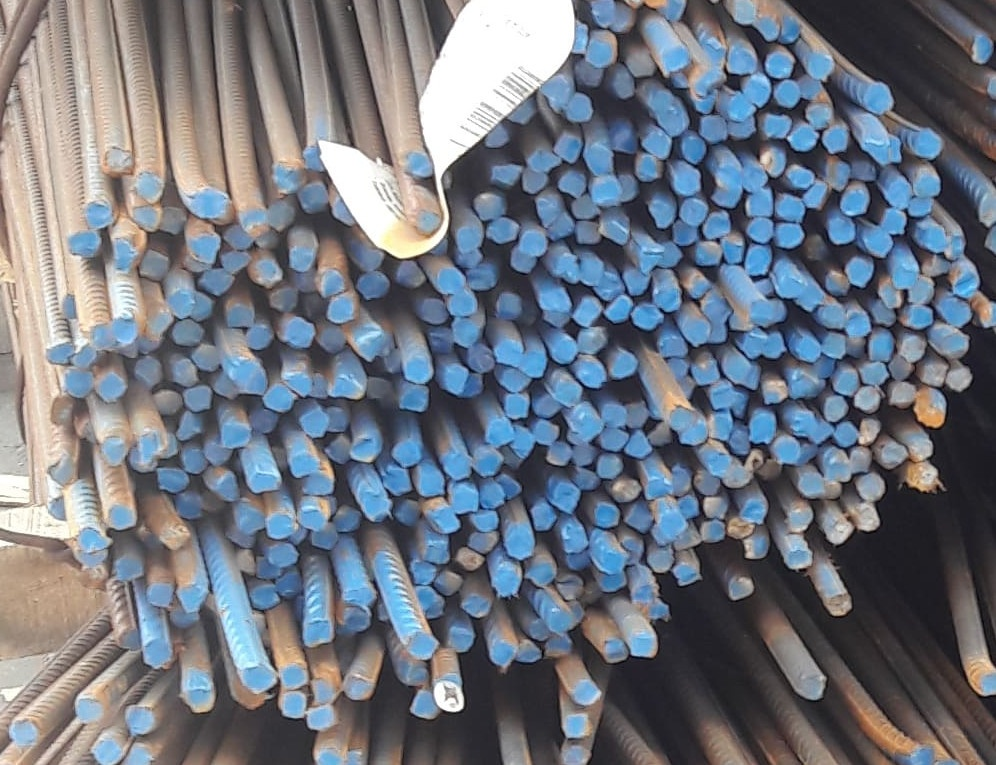dipstick: (233, 357, 268, 394), (915, 390, 948, 429), (931, 327, 969, 359), (189, 188, 228, 219), (242, 661, 278, 694), (348, 238, 383, 271), (101, 144, 133, 179), (415, 586, 447, 620), (569, 407, 601, 441), (658, 100, 688, 136), (542, 75, 572, 110), (197, 269, 234, 296), (283, 317, 315, 348), (939, 297, 971, 328), (328, 375, 365, 401), (124, 704, 155, 735), (300, 184, 330, 216), (352, 329, 382, 361), (356, 270, 390, 298), (586, 143, 614, 177), (275, 162, 305, 193), (472, 448, 503, 478), (601, 214, 631, 245), (907, 462, 938, 492), (75, 526, 112, 551), (427, 506, 460, 534), (695, 68, 728, 96), (131, 203, 161, 233), (240, 205, 269, 236), (341, 673, 370, 704), (409, 690, 440, 719), (865, 82, 894, 113), (364, 490, 392, 522), (394, 260, 426, 288), (765, 52, 797, 80), (742, 74, 770, 106), (67, 229, 100, 256), (250, 260, 284, 286), (190, 234, 220, 263), (97, 372, 126, 402), (491, 567, 521, 596), (592, 178, 621, 208), (642, 130, 672, 159), (728, 46, 757, 76), (176, 411, 204, 442), (553, 483, 581, 514), (673, 166, 701, 197), (574, 295, 602, 326), (792, 332, 820, 363), (338, 602, 370, 629), (406, 631, 438, 658), (48, 453, 74, 486), (620, 532, 645, 566), (135, 173, 164, 202), (84, 200, 113, 229), (864, 229, 893, 258), (134, 356, 162, 386), (587, 38, 615, 68), (577, 327, 607, 355), (167, 287, 194, 318), (266, 513, 297, 540), (302, 619, 333, 646), (419, 466, 446, 497), (632, 304, 663, 331), (726, 95, 757, 122), (157, 468, 189, 494), (885, 177, 911, 209), (901, 305, 934, 330), (969, 32, 994, 65), (63, 369, 92, 397), (139, 429, 167, 458), (160, 521, 189, 549), (300, 409, 328, 438), (400, 385, 429, 413), (448, 290, 477, 318), (443, 451, 471, 480), (598, 546, 627, 574), (604, 295, 632, 324), (919, 224, 947, 253), (788, 370, 816, 399), (825, 516, 853, 545), (266, 202, 296, 229), (75, 697, 105, 724), (318, 324, 345, 354), (701, 115, 728, 145), (856, 474, 886, 501), (105, 503, 136, 529), (183, 687, 214, 713), (524, 560, 555, 586), (576, 59, 602, 90), (173, 320, 205, 345), (487, 218, 519, 243), (650, 197, 674, 230), (561, 524, 589, 552), (659, 509, 687, 537), (913, 129, 941, 157), (953, 269, 981, 297), (880, 444, 908, 472), (404, 151, 433, 178), (383, 468, 412, 495), (449, 487, 478, 514), (624, 504, 653, 531), (712, 182, 741, 209), (653, 285, 682, 312), (846, 258, 873, 287), (749, 414, 776, 443), (140, 249, 166, 279), (86, 321, 116, 347), (855, 502, 881, 532), (91, 740, 123, 764), (326, 294, 354, 321), (178, 585, 206, 612), (144, 640, 171, 668), (333, 505, 361, 532), (405, 356, 433, 383), (596, 273, 624, 300), (412, 210, 441, 236), (102, 436, 128, 465), (10, 719, 39, 745), (399, 660, 428, 686), (611, 350, 637, 379), (703, 297, 732, 323), (475, 194, 505, 219), (825, 452, 850, 482), (541, 288, 572, 312), (581, 254, 604, 286), (226, 224, 253, 251), (289, 246, 316, 273), (265, 385, 292, 412), (173, 358, 199, 386), (250, 406, 278, 432), (392, 440, 420, 466), (437, 267, 465, 293), (452, 318, 478, 346), (468, 345, 494, 373), (436, 571, 464, 597), (565, 96, 593, 122), (612, 126, 638, 154), (624, 268, 650, 296), (777, 196, 805, 222), (893, 262, 919, 290), (947, 365, 973, 393), (670, 403, 696, 431), (798, 673, 826, 699), (311, 676, 336, 705), (251, 585, 280, 610), (578, 363, 607, 388), (661, 45, 690, 70), (555, 253, 580, 282), (684, 317, 709, 346), (900, 334, 925, 363), (528, 148, 558, 172), (500, 369, 530, 393), (870, 331, 894, 361), (161, 208, 187, 235), (115, 555, 142, 581), (146, 582, 173, 608), (281, 664, 308, 690), (311, 524, 337, 551), (456, 226, 483, 252), (488, 419, 514, 446), (630, 632, 657, 658), (680, 199, 707, 225), (746, 191, 773, 217), (155, 390, 183, 415), (420, 299, 448, 324), (495, 341, 523, 366), (496, 293, 521, 321), (507, 534, 535, 559), (776, 224, 804, 249), (919, 362, 947, 387), (114, 313, 138, 342), (246, 327, 275, 351), (184, 387, 213, 411), (215, 472, 239, 501), (682, 136, 706, 165), (116, 239, 137, 272), (344, 584, 377, 605), (826, 161, 849, 191), (859, 362, 889, 385), (351, 437, 377, 463), (908, 278, 934, 304), (889, 382, 915, 408), (723, 356, 749, 382), (319, 268, 344, 295), (308, 705, 335, 730), (284, 373, 311, 398), (504, 393, 529, 420), (601, 428, 628, 453), (704, 214, 731, 239), (856, 386, 881, 413), (786, 507, 813, 532), (270, 287, 298, 311), (193, 347, 221, 371), (291, 452, 319, 476), (281, 691, 305, 719), (513, 427, 534, 459), (532, 503, 556, 531), (557, 134, 581, 162), (656, 337, 688, 358), (790, 127, 818, 151), (691, 360, 719, 384), (668, 466, 691, 495), (879, 277, 901, 307), (785, 547, 815, 569), (303, 474, 334, 495), (491, 641, 516, 667), (594, 503, 620, 528), (648, 422, 674, 447), (808, 53, 833, 79), (828, 219, 854, 244), (880, 209, 906, 234), (798, 473, 823, 499), (409, 561, 436, 585), (448, 627, 475, 651), (746, 218, 773, 242), (746, 247, 770, 274), (888, 354, 912, 381), (822, 332, 846, 359), (226, 303, 254, 326), (328, 435, 351, 463), (467, 268, 495, 291), (422, 542, 450, 565), (546, 635, 574, 658), (572, 681, 600, 704), (613, 480, 641, 503), (226, 526, 255, 548), (860, 128, 889, 150), (170, 607, 200, 628), (461, 596, 491, 617), (710, 455, 740, 476), (177, 494, 202, 519), (563, 713, 588, 738), (549, 214, 574, 239), (823, 128, 848, 153), (183, 447, 207, 473), (535, 420, 559, 446), (553, 338, 577, 364), (559, 172, 585, 196), (590, 1, 614, 27), (742, 165, 766, 191), (757, 16, 781, 42), (761, 151, 785, 177), (806, 103, 832, 127), (914, 173, 940, 197), (826, 270, 850, 296), (821, 304, 847, 328), (681, 419, 707, 443), (694, 472, 720, 496), (147, 309, 170, 336), (189, 293, 212, 320), (279, 573, 302, 600), (457, 547, 484, 570), (699, 521, 726, 544), (628, 432, 651, 459), (573, 196, 600, 219), (635, 154, 658, 181), (709, 413, 732, 440), (304, 143, 326, 171), (222, 424, 250, 446), (238, 510, 266, 532), (612, 71, 634, 99), (778, 276, 806, 298), (979, 191, 996, 227), (445, 364, 466, 393), (630, 584, 659, 605), (536, 197, 557, 226), (724, 466, 753, 487), (256, 555, 281, 579), (485, 122, 509, 147), (468, 531, 498, 551), (550, 608, 575, 632), (558, 575, 582, 600), (577, 221, 601, 246), (841, 191, 865, 216), (847, 312, 871, 337), (730, 425, 750, 455), (747, 300, 771, 325), (792, 411, 816, 436), (776, 440, 801, 464), (834, 422, 858, 447), (827, 593, 852, 617), (744, 536, 769, 560), (130, 449, 156, 472), (206, 442, 232, 465), (299, 508, 325, 531), (524, 351, 547, 377), (520, 231, 546, 254), (628, 53, 654, 76), (696, 242, 722, 265), (729, 118, 755, 141), (765, 334, 788, 360), (497, 476, 524, 498), (674, 563, 701, 585), (764, 115, 791, 137), (250, 472, 281, 491), (492, 163, 520, 184), (645, 476, 673, 497), (270, 546, 299, 566), (598, 572, 627, 592), (293, 270, 317, 294), (313, 745, 345, 763), (649, 549, 673, 573), (603, 405, 627, 429), (742, 500, 766, 524), (397, 500, 420, 525), (368, 377, 393, 400), (430, 328, 453, 353), (523, 169, 546, 194), (481, 484, 504, 509), (604, 640, 629, 663), (512, 248, 535, 273), (687, 276, 712, 299), (777, 82, 800, 107), (728, 577, 754, 599), (213, 375, 237, 398), (703, 496, 726, 520), (598, 455, 622, 478), (647, 91, 670, 115), (732, 1, 755, 25), (946, 232, 965, 261), (805, 184, 827, 209), (743, 334, 765, 359), (909, 439, 934, 461), (556, 385, 582, 406), (859, 419, 880, 445), (780, 16, 800, 43), (922, 256, 949, 276), (873, 303, 896, 326), (711, 386, 734, 409), (117, 629, 141, 651), (547, 443, 571, 465), (573, 446, 597, 468), (799, 75, 821, 99), (763, 381, 787, 403), (810, 419, 832, 443), (756, 458, 780, 480), (327, 408, 348, 433), (456, 247, 481, 268), (536, 395, 561, 416), (641, 246, 662, 271), (716, 163, 741, 184), (836, 370, 857, 395), (851, 447, 872, 472), (615, 4, 633, 33), (47, 344, 73, 364), (517, 642, 543, 662), (722, 238, 742, 264), (850, 163, 876, 183), (668, 356, 688, 382), (75, 550, 107, 566), (528, 618, 550, 641), (674, 222, 697, 244), (708, 322, 730, 345), (826, 397, 848, 420), (222, 251, 250, 269), (574, 469, 599, 489), (621, 175, 639, 202), (566, 553, 591, 572), (472, 512, 498, 530), (544, 311, 570, 329), (679, 496, 701, 517), (75, 346, 95, 369), (464, 374, 484, 397), (664, 243, 682, 268), (788, 168, 813, 186), (728, 520, 753, 538), (734, 389, 748, 420), (847, 337, 865, 359), (257, 232, 280, 249), (823, 482, 843, 500)
